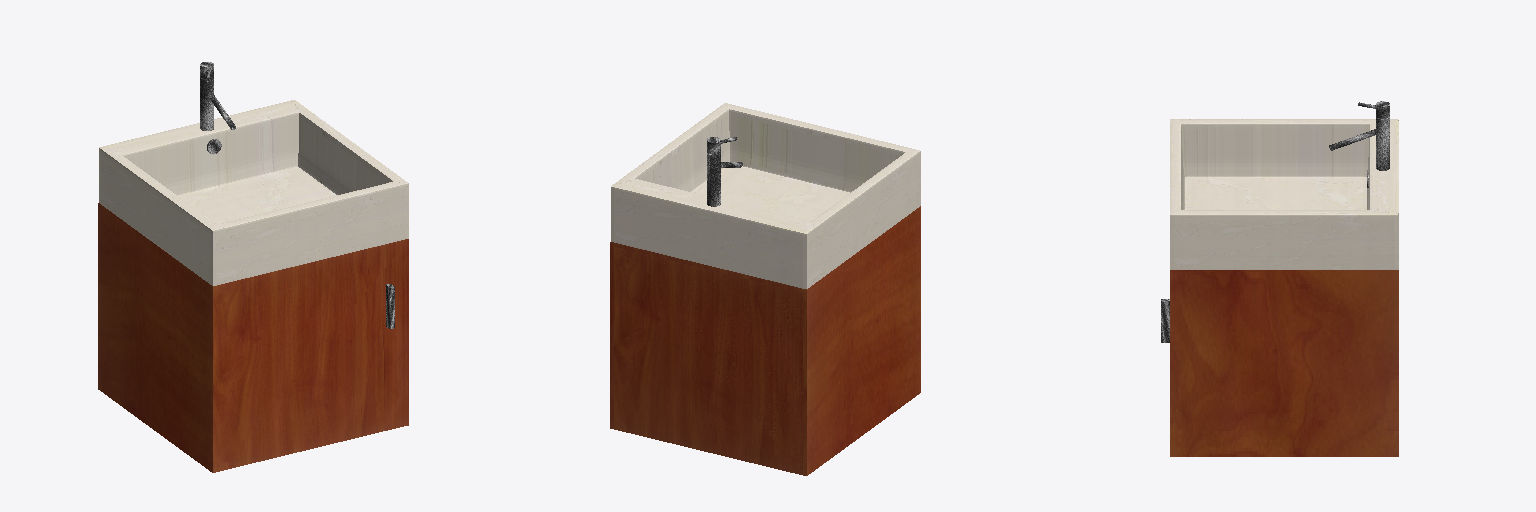
3 renders of one model, left to right at view 1: azimuth 30°, elevation 25°; view 2: azimuth 150°, elevation 25°; view 3: azimuth 270°, elevation 25°, orthographic.
Visible parts, largest first — view 1: Line01, Box16, Box10, Cylinder14; view 2: Box16, Box10, Line01, Cylinder14; view 3: Line01, Box16, Cylinder14.
Part boxes in pixels (x1,y1,x2,y2): Line01: (98,203,408,472); Box16: (99,100,408,285); Box10: (218,245,404,471); Cylinder14: (200,62,213,130); Box16: (611,103,920,288); Box10: (614,247,802,474); Line01: (610,206,920,475); Cylinder14: (707,137,720,206); Line01: (1170,270,1398,456); Box16: (1170,119,1398,269); Cylinder14: (1376,101,1389,170).
Bounding box in the file's own units: 500 × 745 × 524.
8 materials, 3 textured.